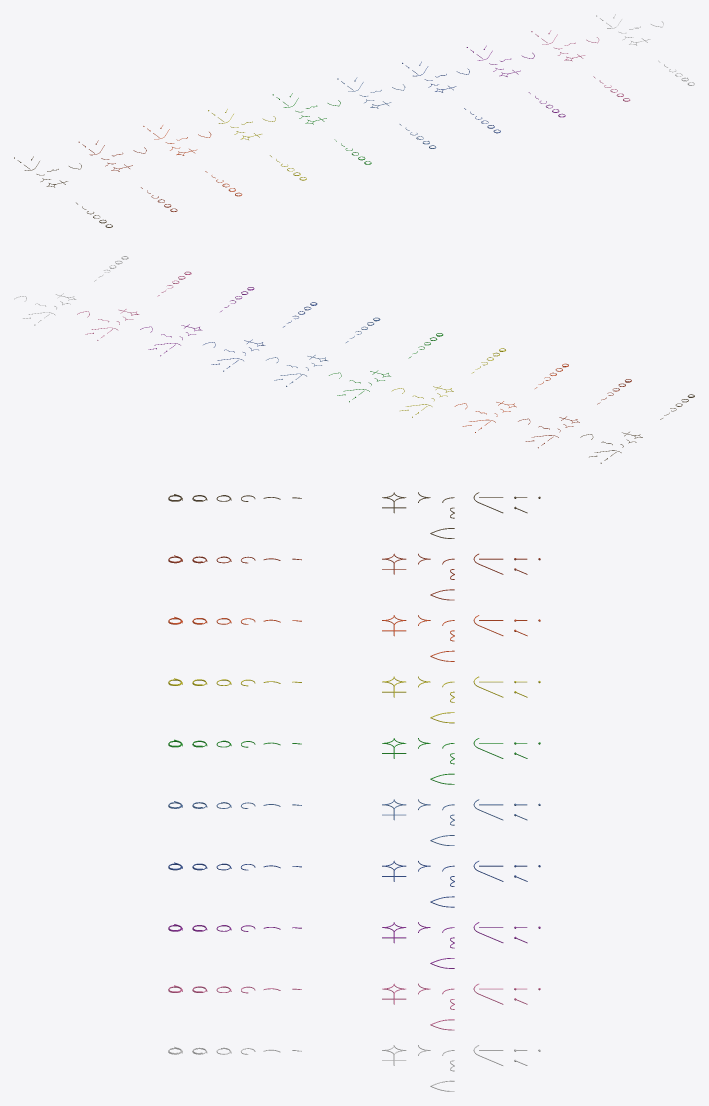
File: wires.fbx
The picture shows the model from 3 angles, top to bottom: view 1: azimuth 30°, elevation 25°; view 2: azimuth 150°, elevation 25°; view 3: azimuth 270°, elevation 25°; orthographic projection. The views are drawn at different scales.
Bounding box in the file's own units: 58.53 × 0.142 × 15.38.
